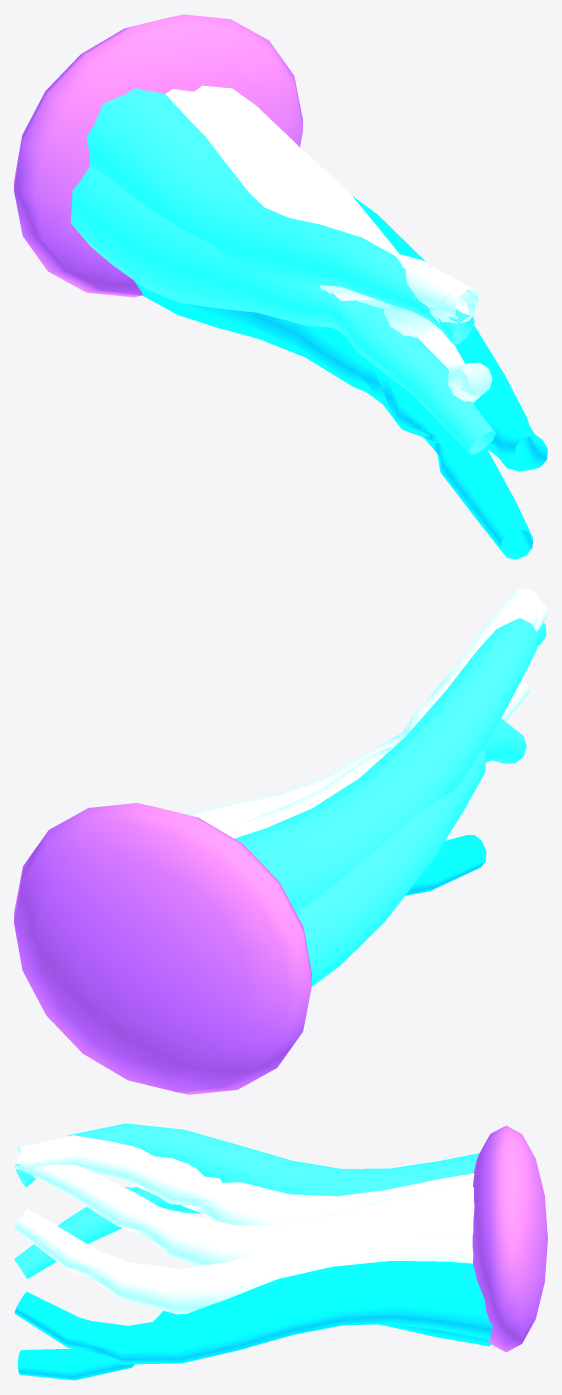
Rendered from SpalakhAnemoneNeon_v094.glb.
3 renders of one model, top to bottom at view 1: azimuth 30°, elevation 25°; view 2: azimuth 150°, elevation 25°; view 3: azimuth 270°, elevation 25°, orthographic. The views are drawn at different scales.
Size of the model in its own units: 0.44 by 0.4435 by 0.9572.
